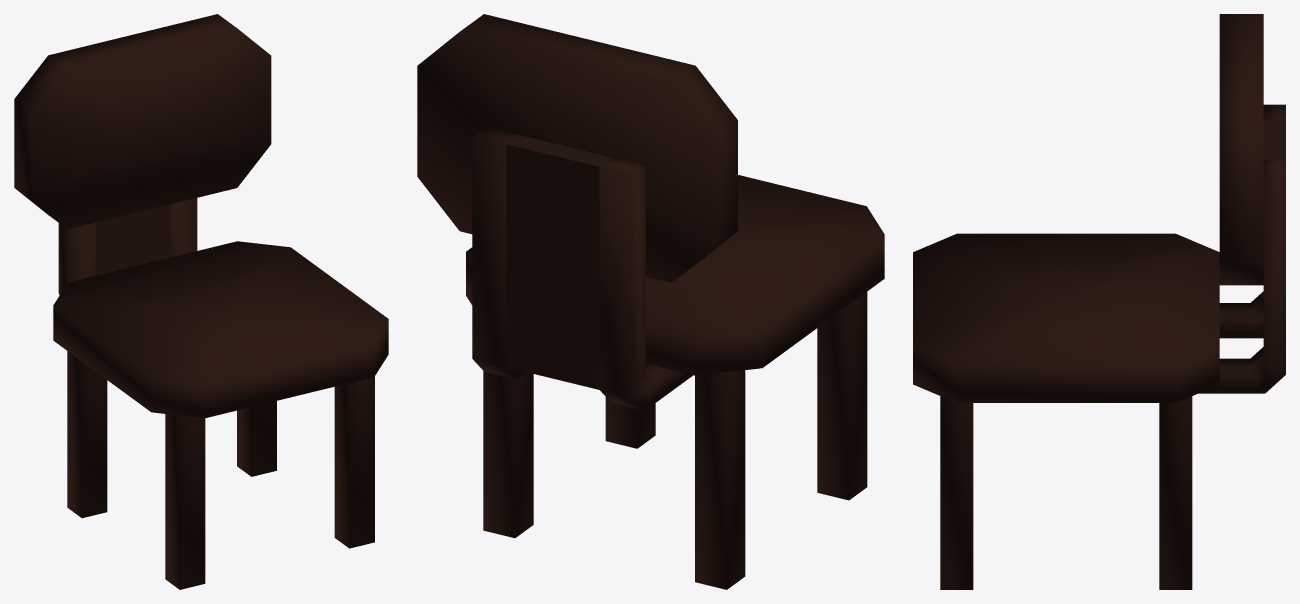
The model's file is Chair.fbx.
The picture shows the model from 3 angles, left to right: view 1: azimuth 30°, elevation 25°; view 2: azimuth 150°, elevation 25°; view 3: azimuth 270°, elevation 25°; orthographic projection. The views are drawn at different scales.
Visible parts, largest first — view 1: Chair; view 2: Chair; view 3: Chair.
Part boxes in pixels (x1=…): Chair: x1=14, y1=14, x2=388, y2=589; Chair: x1=417, y1=14, x2=884, y2=589; Chair: x1=913, y1=14, x2=1285, y2=589.
Bounding box in the file's own units: 27.56 × 47.24 × 33.51.
